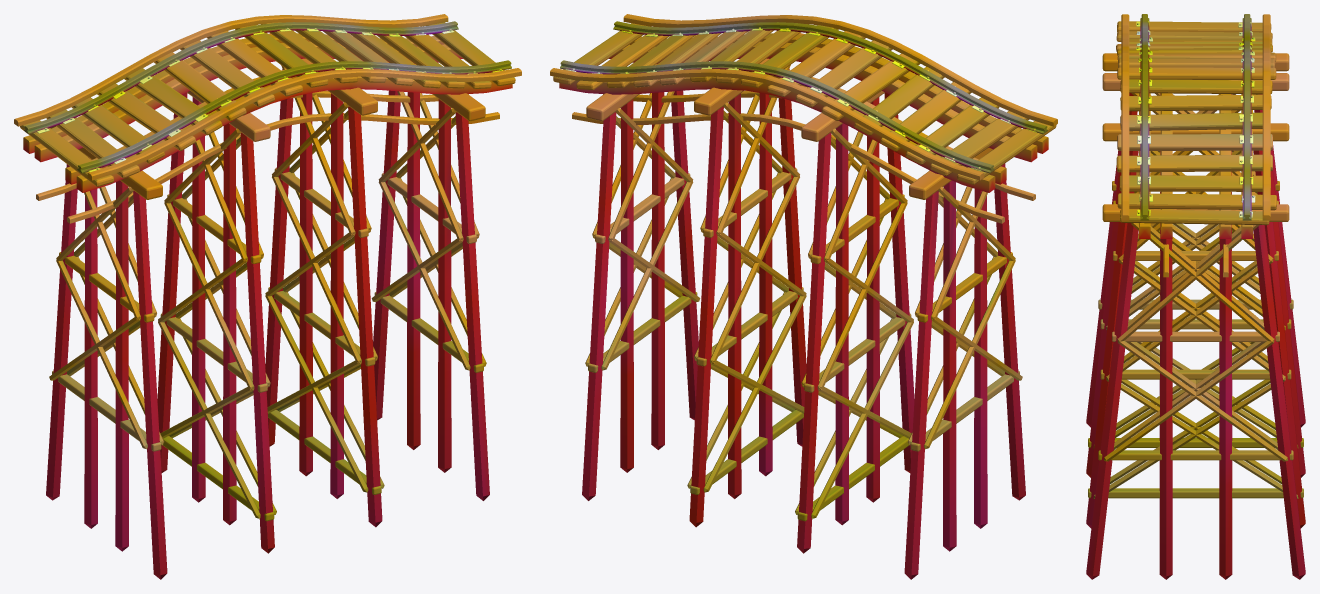
Rendered from Track_Hill_12m.fbx.
3 renders of one model, left to right at view 1: azimuth 30°, elevation 25°; view 2: azimuth 150°, elevation 25°; view 3: azimuth 270°, elevation 25°, orthographic. The views are drawn at different scales.
Visible parts, largest first — view 1: Track_Hill_12m; view 2: Track_Hill_12m; view 3: Track_Hill_12m.
Boxes of the visible parts, box(x1,y1,x2,y2) form: Track_Hill_12m: box(14, 14, 521, 579); Track_Hill_12m: box(550, 14, 1057, 579); Track_Hill_12m: box(1086, 14, 1305, 579).
Size of the model in its own units: 12 by 12.05 by 5.53.
